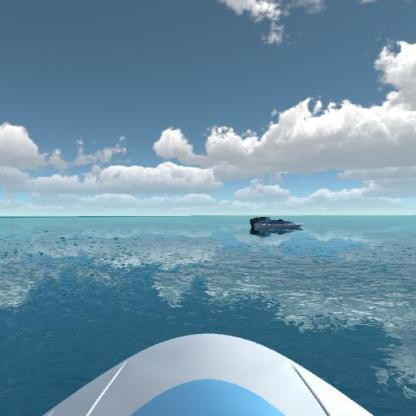usv1: (247, 212, 305, 239)
